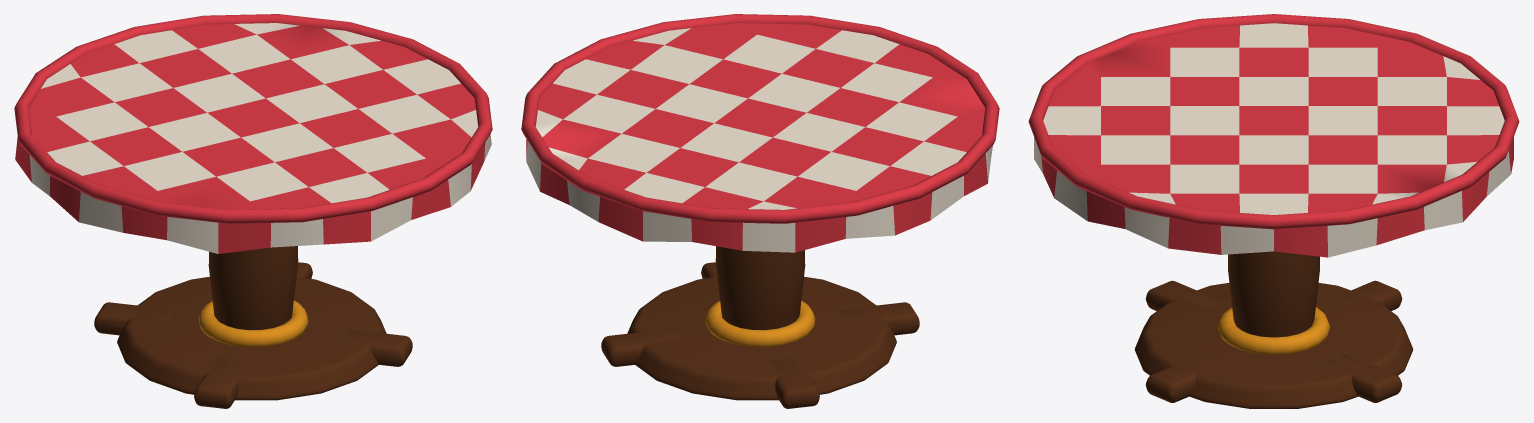
The model's file is table_round_A_small.gltf.
3 views of the same model, side by side, from view 1: azimuth 30°, elevation 25°; view 2: azimuth 150°, elevation 25°; view 3: azimuth 270°, elevation 25° (orthographic). The views are drawn at different scales.
Parts seen in each view (by area): view 1: TableBaseDisc; view 2: TableBaseDisc; view 3: TableBaseDisc.
Part boxes in pixels (box(x1,y1,x2,y2)): TableBaseDisc: box(14, 14, 492, 408); TableBaseDisc: box(521, 14, 999, 408); TableBaseDisc: box(1028, 14, 1519, 408).
Bounding box in the file's own units: 0.974 × 0.519 × 0.974.
